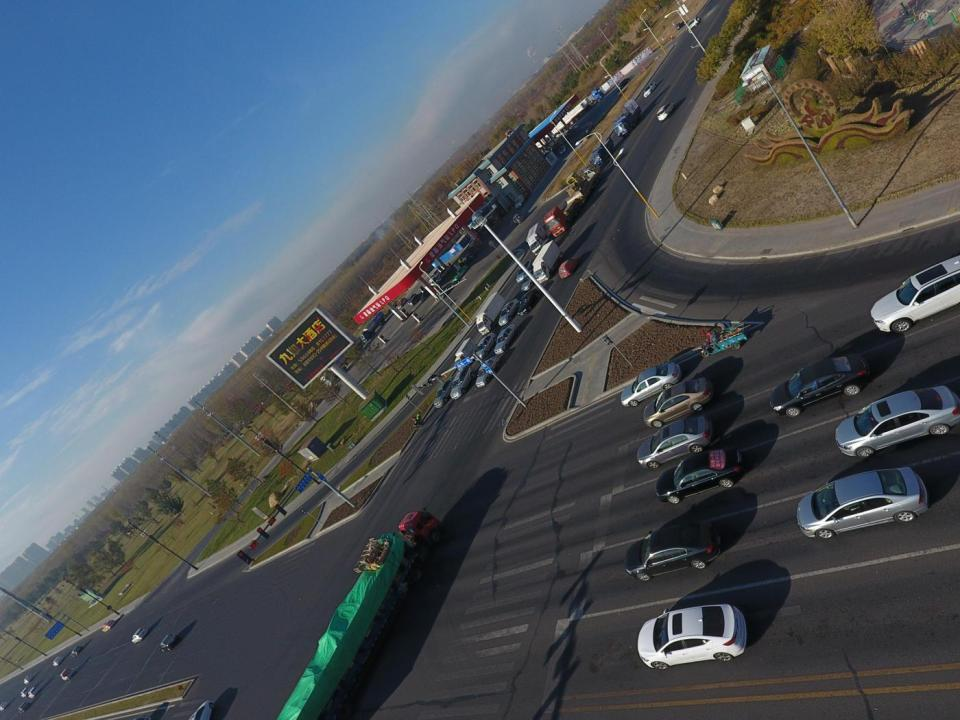car: (833, 384, 960, 460), (797, 469, 930, 540), (870, 248, 960, 336), (637, 602, 749, 668), (769, 350, 871, 418), (623, 521, 720, 582), (656, 448, 744, 504), (637, 416, 713, 469), (642, 376, 714, 428), (621, 362, 682, 406), (451, 365, 475, 400), (433, 376, 457, 408), (494, 323, 518, 354), (476, 357, 500, 388), (475, 332, 497, 362), (186, 698, 216, 720), (517, 288, 540, 315), (498, 298, 520, 326), (516, 259, 536, 283), (158, 632, 179, 652), (521, 270, 540, 292), (559, 258, 579, 278), (131, 628, 149, 644), (686, 16, 702, 31), (643, 82, 658, 98), (452, 267, 468, 282), (439, 283, 453, 300), (409, 291, 424, 306), (420, 285, 434, 301), (437, 267, 450, 282), (429, 269, 441, 283), (618, 78, 630, 90), (102, 620, 115, 631), (29, 686, 40, 699), (18, 702, 31, 713), (20, 686, 30, 700), (71, 645, 83, 656), (52, 655, 64, 666), (457, 254, 470, 264), (465, 252, 476, 263), (407, 293, 417, 304), (23, 674, 33, 684), (398, 297, 406, 309), (676, 20, 686, 29), (0, 700, 10, 709), (559, 146, 566, 154)
truck: (270, 511, 444, 720), (544, 164, 602, 237), (319, 340, 363, 388), (545, 97, 591, 138), (475, 292, 508, 335), (531, 240, 563, 284), (612, 98, 642, 138), (571, 88, 604, 115), (360, 311, 386, 342), (525, 222, 548, 255), (455, 338, 478, 370), (592, 136, 614, 166), (61, 668, 75, 680), (513, 213, 524, 225)
van: (656, 103, 676, 121), (581, 165, 600, 179), (514, 194, 525, 208), (583, 122, 594, 134)
